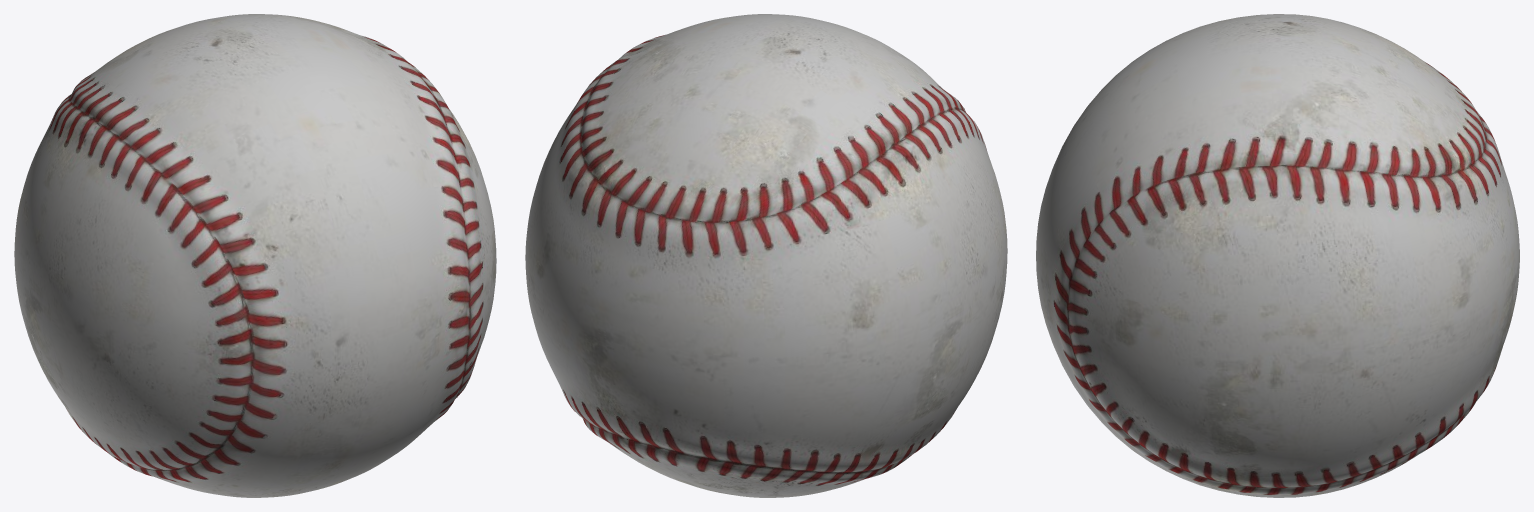
Rendered from baseball_01_1k.gltf.
3 renders of one model, left to right at view 1: azimuth 30°, elevation 25°; view 2: azimuth 150°, elevation 25°; view 3: azimuth 270°, elevation 25°, orthographic.
Visible parts, largest first — view 1: baseball_01; view 2: baseball_01; view 3: baseball_01.
Boxes of the visible parts, box(x1,y1,x2,y2) form: baseball_01: box(14, 14, 496, 497); baseball_01: box(525, 14, 1007, 497); baseball_01: box(1036, 14, 1519, 497).
Bounding box in the file's own units: 0.0735 × 0.0753 × 0.0752.
1 material, 1 textured.
